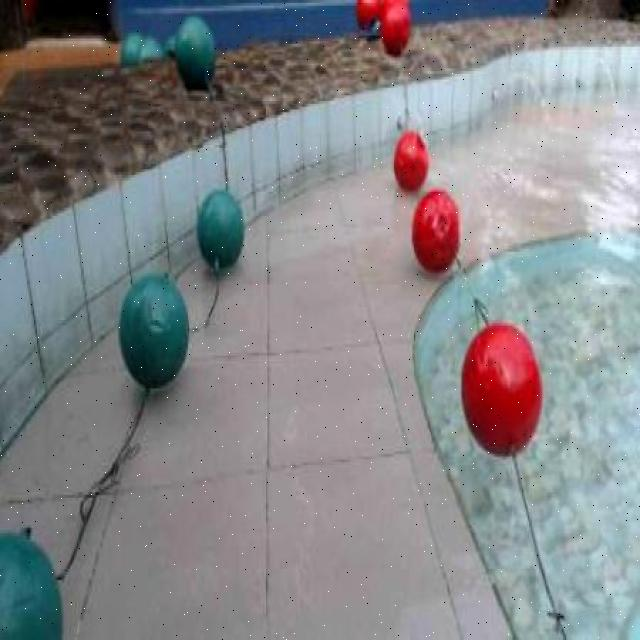buoy: (459, 321, 544, 461), (116, 273, 188, 388), (0, 529, 64, 636), (410, 185, 460, 274), (195, 186, 244, 268), (176, 12, 216, 86), (390, 130, 428, 193)
